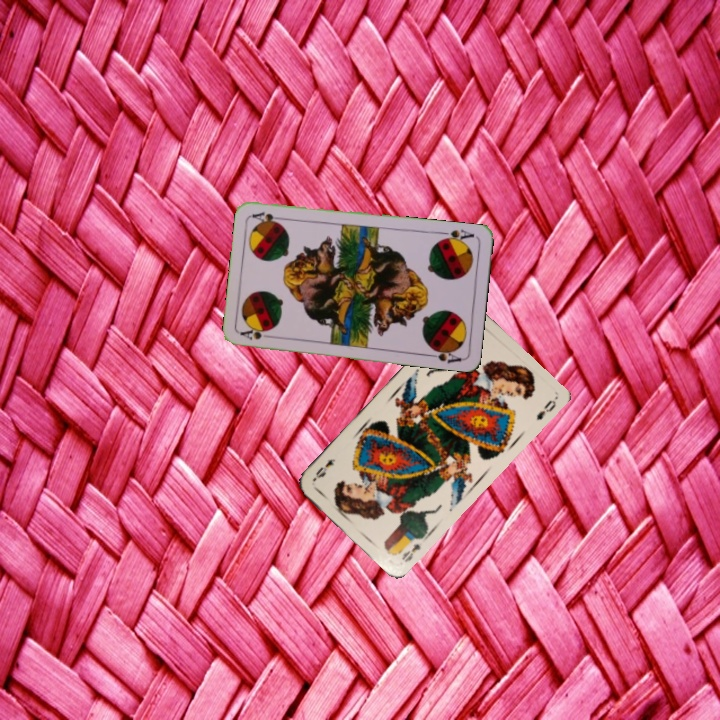EO: (398, 539, 423, 565)
SA: (436, 225, 477, 246), (237, 325, 277, 342)
